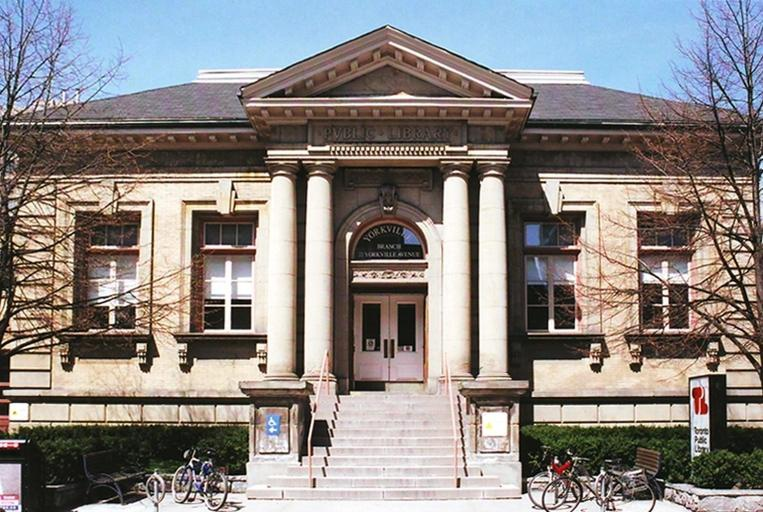non-vehicle: (540, 448, 656, 512), (527, 444, 591, 509), (169, 442, 229, 510)
